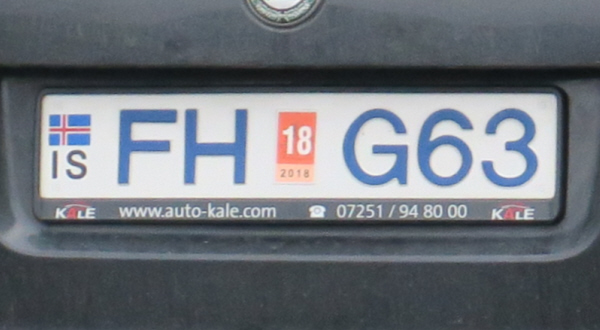license_plate: (36, 90, 558, 202)
